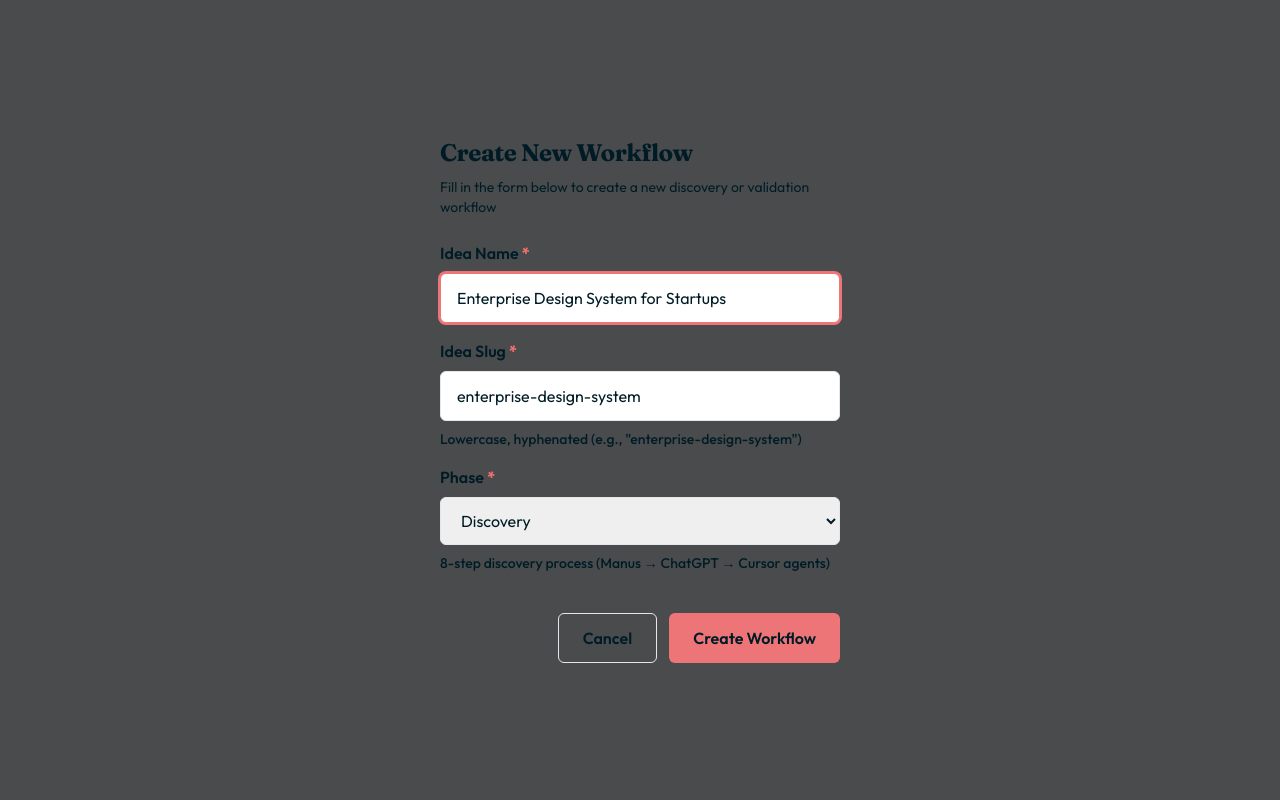
CreateWorkflowDialog › validates required fields
Click the button "Create Workflow" at [755, 638], box 669,613 -> 840,663
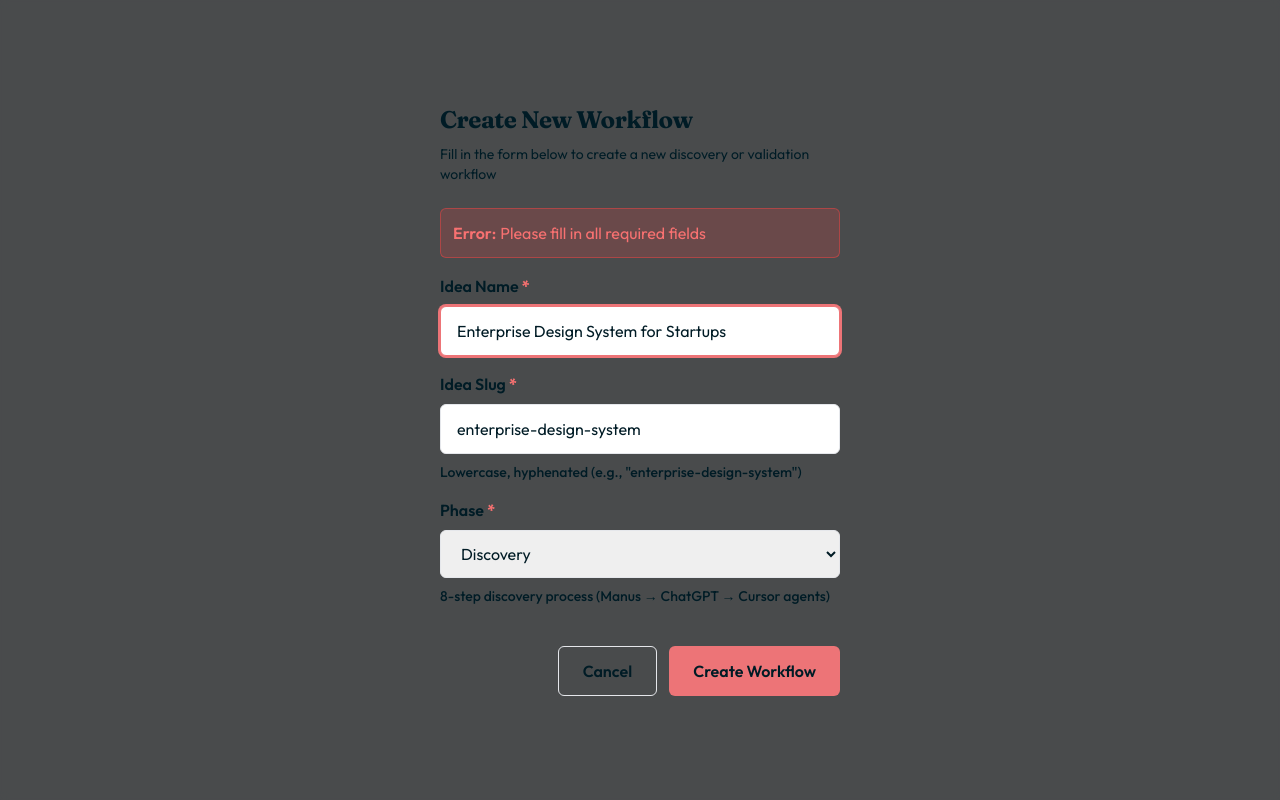
Now the message "Error:Please fill in all required fields" is shown, box 440,208 -> 840,258
